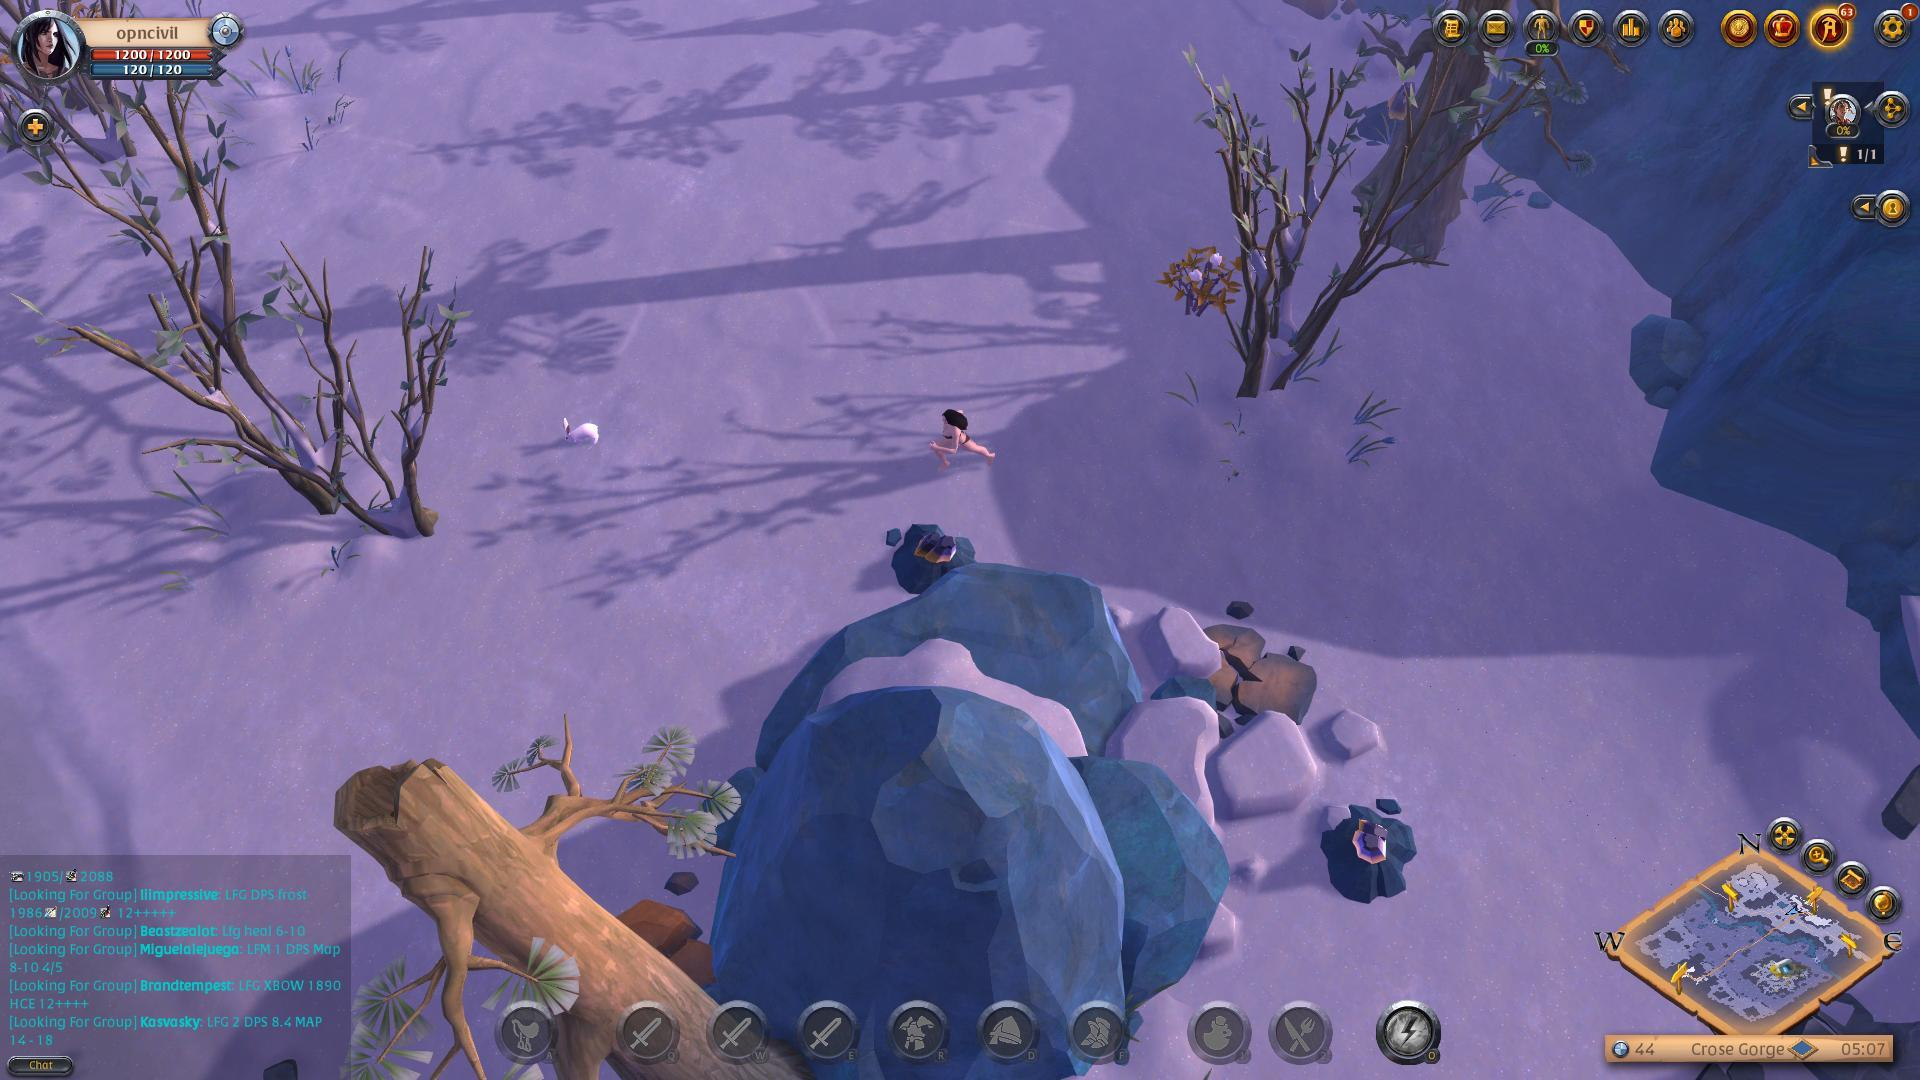copper_ore: (1313, 793, 1429, 913), (885, 496, 985, 613)
cotton: (1149, 237, 1247, 324)
limestone: (585, 886, 728, 1006)
